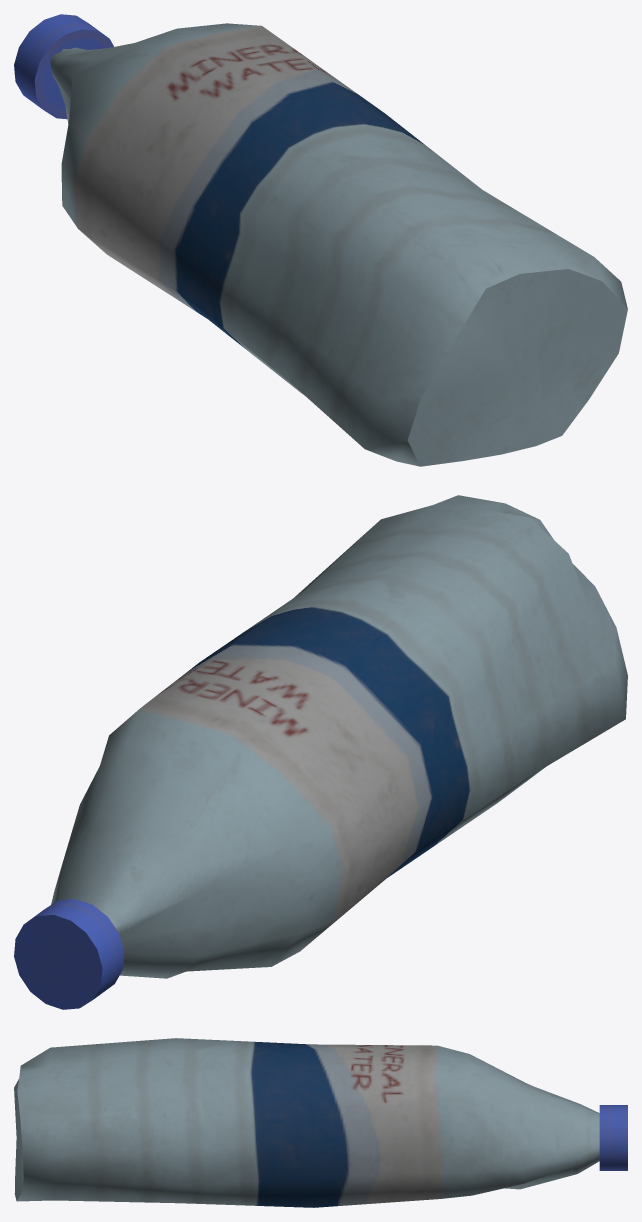
File: SM_Small_Trash_Bottle_06.FBX
3 views of the same model, one above another, from view 1: azimuth 30°, elevation 25°; view 2: azimuth 150°, elevation 25°; view 3: azimuth 270°, elevation 25° (orthographic). The views are drawn at different scales.
Visible parts, largest first — view 1: SM_Small_Trash_Bottle_06_LOD0; view 2: SM_Small_Trash_Bottle_06_LOD0; view 3: SM_Small_Trash_Bottle_06_LOD0.
Boxes of the visible parts, bbox=[...] form: SM_Small_Trash_Bottle_06_LOD0: bbox=[14, 14, 627, 466]; SM_Small_Trash_Bottle_06_LOD0: bbox=[14, 495, 627, 1009]; SM_Small_Trash_Bottle_06_LOD0: bbox=[14, 1038, 627, 1207].
Size of what is drawn, in the model's own units: 9.21 by 26.42 by 6.69.
